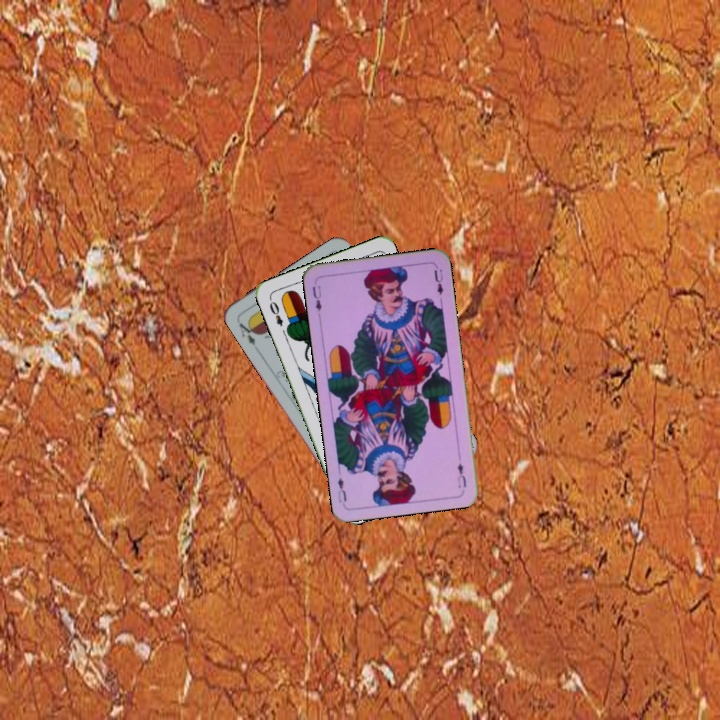EA: (233, 316, 260, 353)
EO: (265, 295, 286, 329)
EU: (308, 282, 324, 314), (454, 459, 469, 490)
